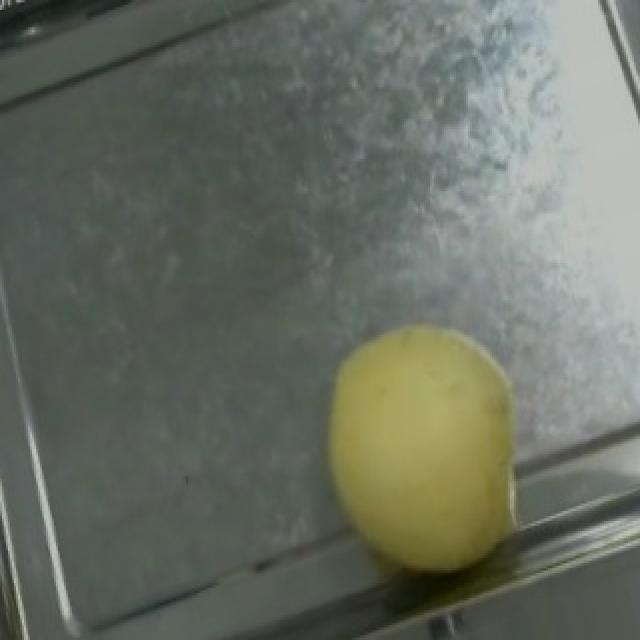Fruit: (278, 288, 568, 610)
